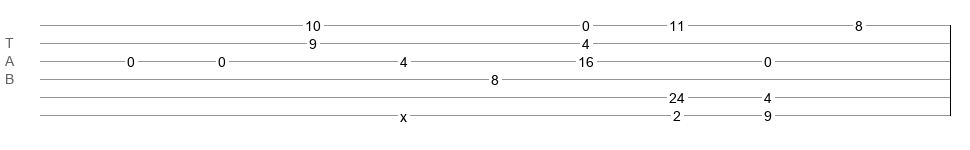0: (127, 54, 135, 64), (218, 54, 226, 64), (582, 18, 590, 28), (764, 54, 772, 64)
10: (305, 18, 321, 28)
11: (669, 18, 685, 28)
16: (578, 54, 594, 64)
2: (673, 108, 681, 118)
24: (669, 90, 685, 100)
4: (400, 54, 408, 64), (582, 36, 590, 46), (764, 90, 772, 100)
8: (491, 72, 499, 82), (855, 18, 863, 28)
9: (309, 36, 317, 46), (764, 108, 772, 118)
x: (400, 109, 407, 117)
